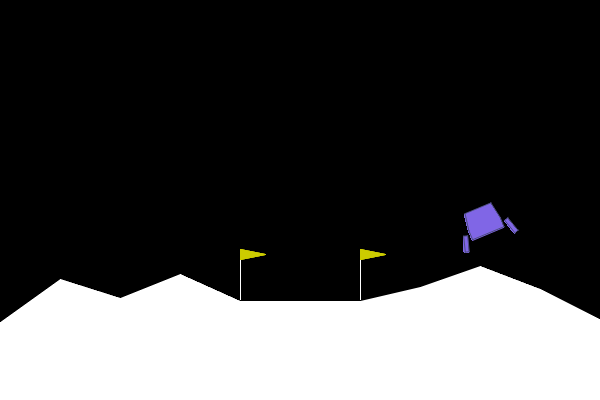lander: (449, 195, 520, 255)
